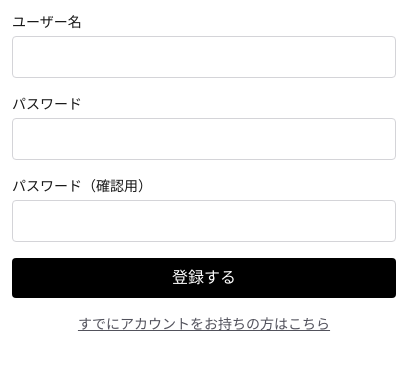
Test: SignupForm › パスワードが短いとエラーを表示する
Type "testuser" into the field labelled "ユーザー名".
click(204, 57); type("testuser")  # box [12,36,396,78]
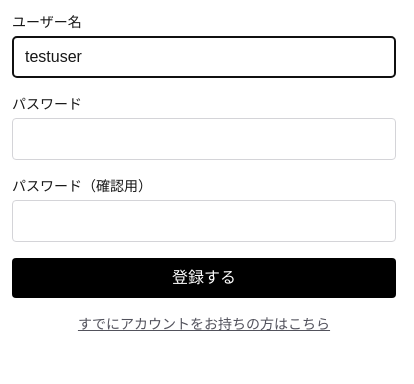
Type "short" into the password field labelled "パスワード".
click(204, 139); type("short")  # box [12,118,396,160]
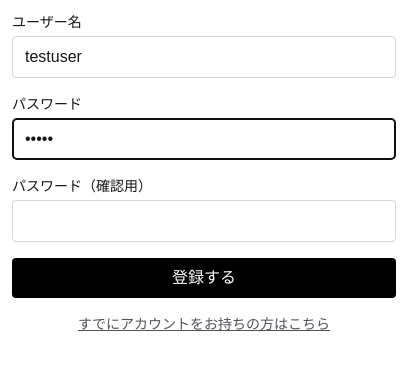
Type "short" into the password field labelled "パスワード（確認用）".
click(204, 221); type("short")  # box [12,200,396,242]
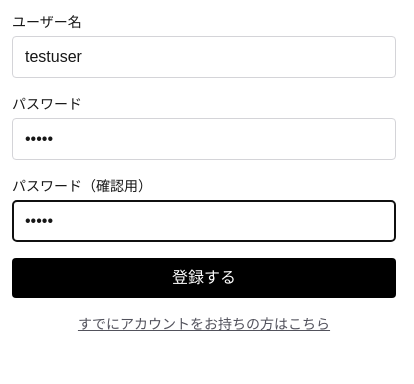
Click the button "登録する".
click(204, 278)  # box [12,258,396,298]
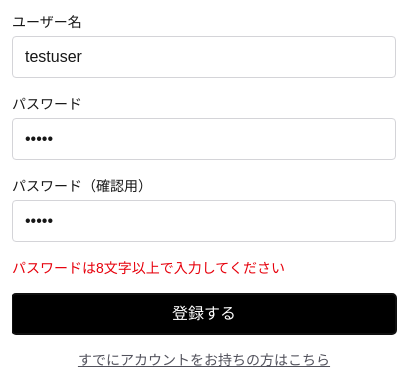
Expected: the text "パスワードは8文字以上で入力してください" is shown, [12,260,285,276]
